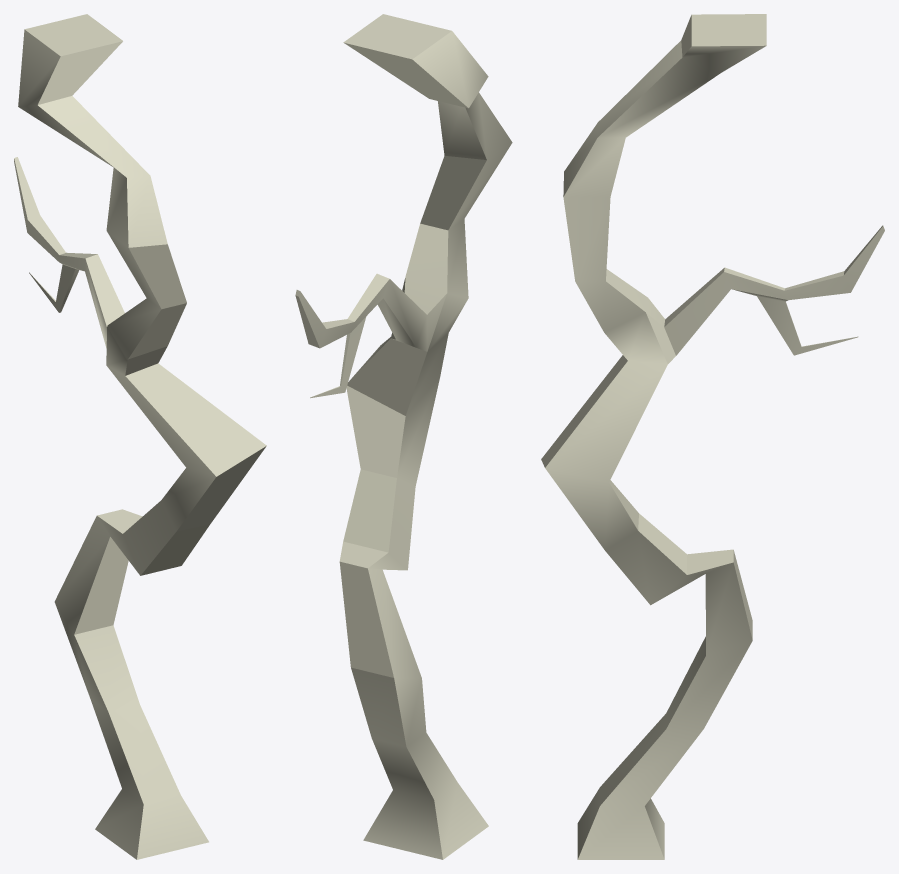
File: LightningA_frame2.glb
3 renders of one model, left to right at view 1: azimuth 30°, elevation 25°; view 2: azimuth 150°, elevation 25°; view 3: azimuth 270°, elevation 25°, orthographic. The views are drawn at different scales.
Parts seen in each view (by area): view 1: LightningA_frame2; view 2: LightningA_frame2; view 3: LightningA_frame2.
Part boxes in pixels (x1,y1,x2,y2): LightningA_frame2: (14,14,266,859); LightningA_frame2: (295,14,512,859); LightningA_frame2: (541,14,884,859).
Bounding box in the file's own units: 0.3667 × 1.63 × 0.6367.
